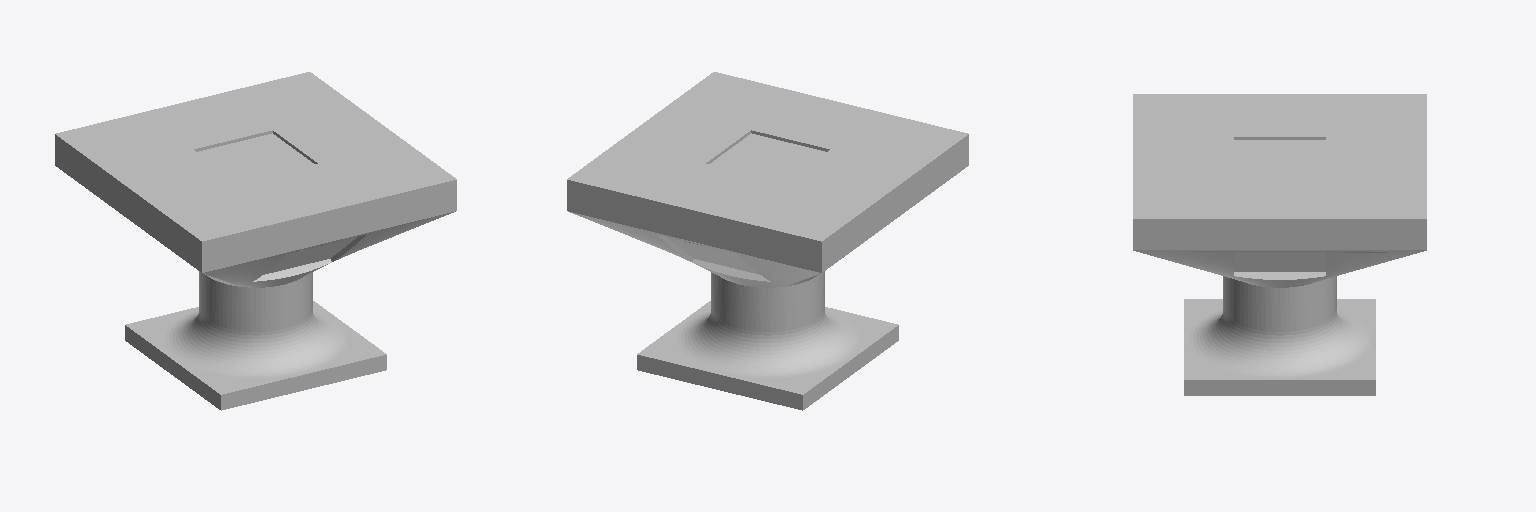
File: lamp_base.obj
3 renders of one model, left to right at view 1: azimuth 30°, elevation 25°; view 2: azimuth 150°, elevation 25°; view 3: azimuth 270°, elevation 25°, orthographic.
Parts seen in each view (by area): view 1: lamp_base_v21, lamp_base_v21.005, lamp_base_v21.003; view 2: lamp_base_v21, lamp_base_v21.005, lamp_base_v21.001; view 3: lamp_base_v21, lamp_base_v21.005, lamp_base_v21.002.
Part boxes in pixels (bbox=[...]): lamp_base_v21: bbox=[55, 72, 456, 410]; lamp_base_v21.005: bbox=[194, 130, 317, 182]; lamp_base_v21.003: bbox=[264, 237, 356, 274]; lamp_base_v21: bbox=[567, 72, 968, 410]; lamp_base_v21.005: bbox=[706, 130, 829, 182]; lamp_base_v21.001: bbox=[667, 237, 759, 274]; lamp_base_v21: bbox=[1133, 94, 1426, 395]; lamp_base_v21.005: bbox=[1234, 137, 1325, 175]; lamp_base_v21.002: bbox=[1234, 252, 1325, 271].
Size of the model in its own units: 0.0847 by 0.063 by 0.0847.